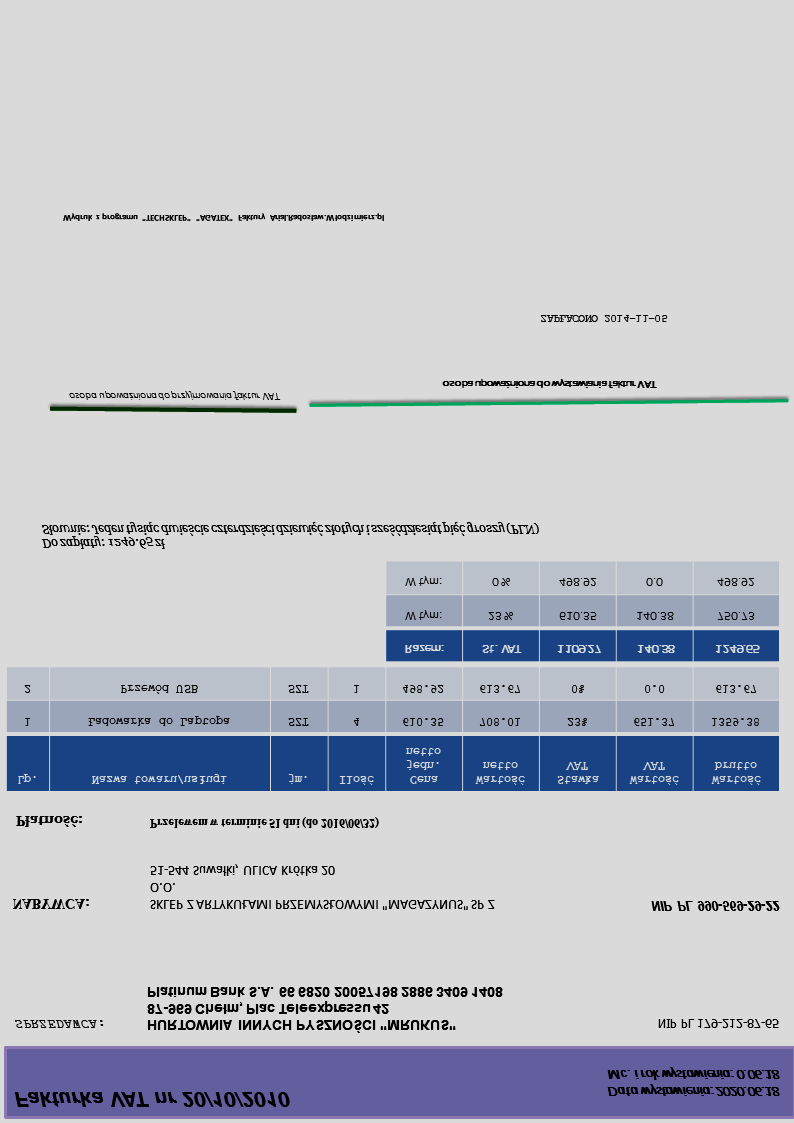Table: (4, 665, 780, 794), (384, 560, 780, 664)
TextBox: (144, 981, 506, 1036), (149, 862, 495, 913), (38, 519, 542, 553), (11, 1087, 292, 1111), (603, 1067, 786, 1101), (60, 211, 389, 226), (147, 815, 380, 832), (66, 388, 282, 404), (438, 377, 658, 392), (649, 897, 780, 916), (653, 1015, 779, 1034), (538, 312, 669, 326), (10, 1017, 106, 1033), (10, 896, 91, 913), (15, 813, 84, 831)
